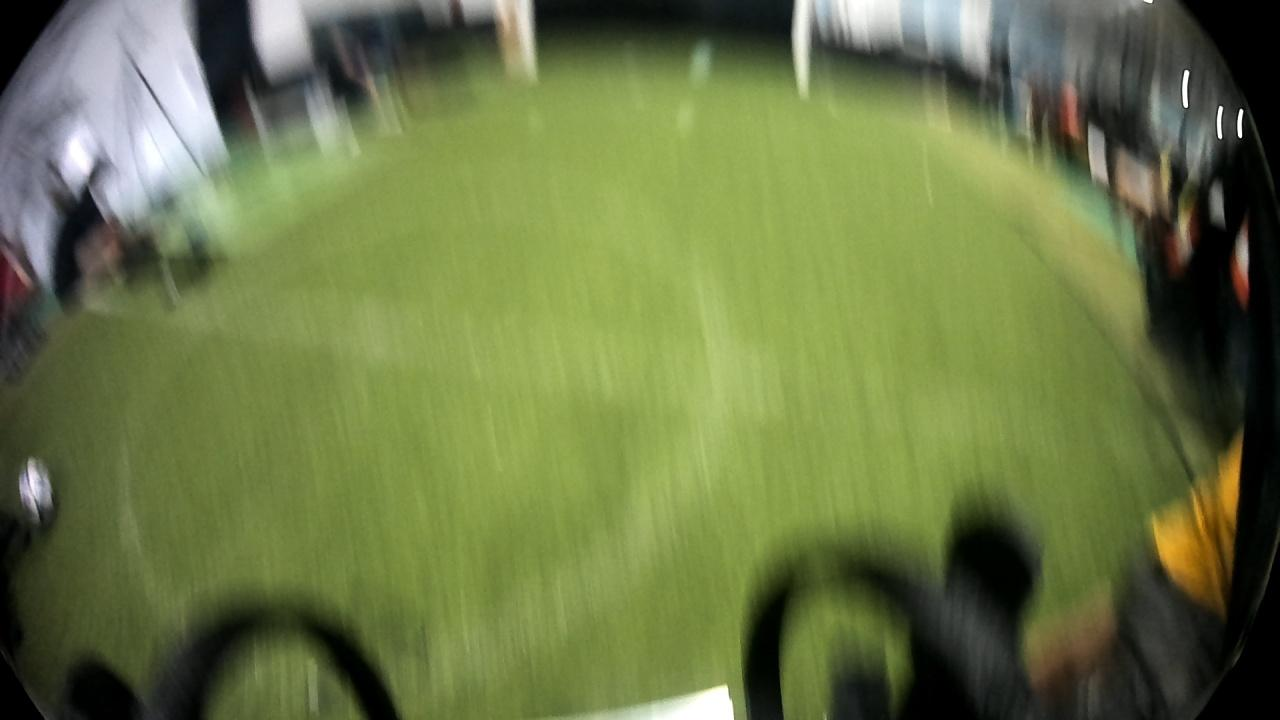ball: (12, 451, 63, 534)
